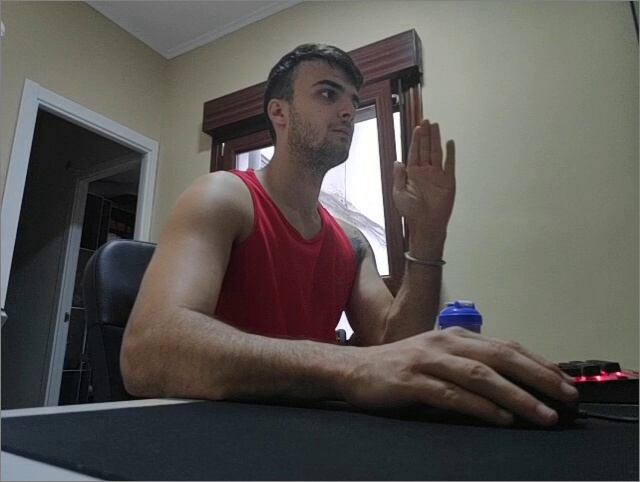Palm: (390, 118, 460, 231)
